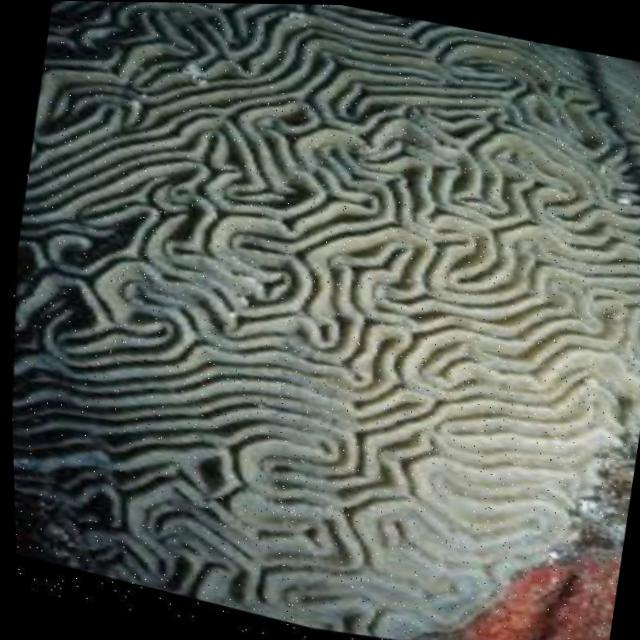Bleached Coral: (19, 0, 640, 640)
